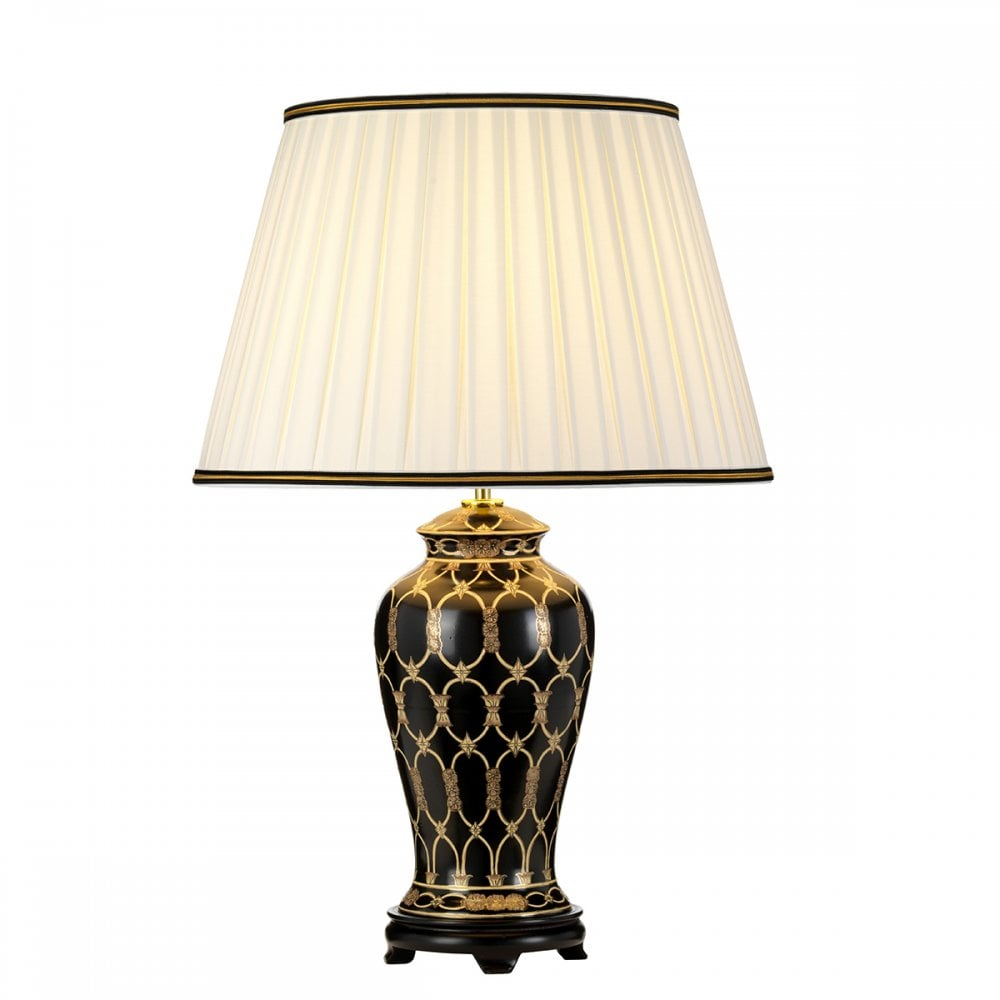lampu: (190, 83, 775, 974)
